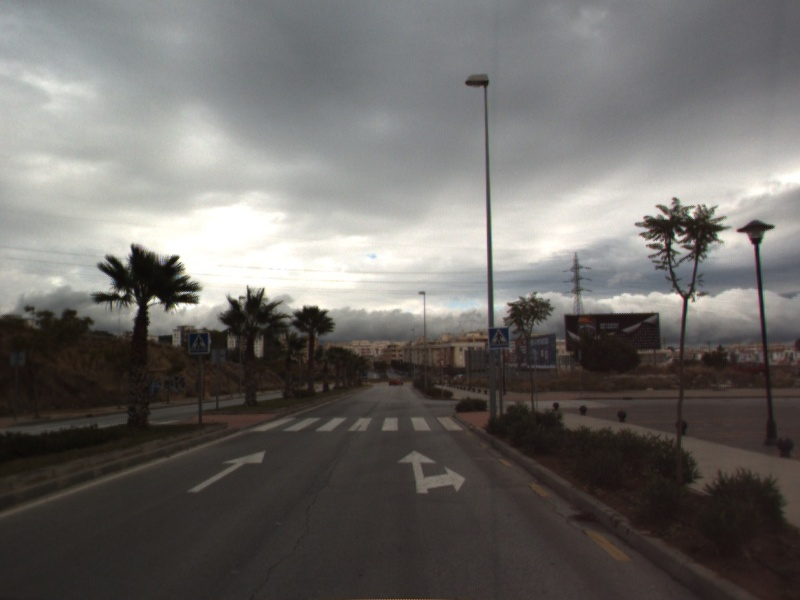STRAIGHT: (185, 449, 267, 494)
STRAIGHT_RIGHT: (395, 448, 467, 496)
